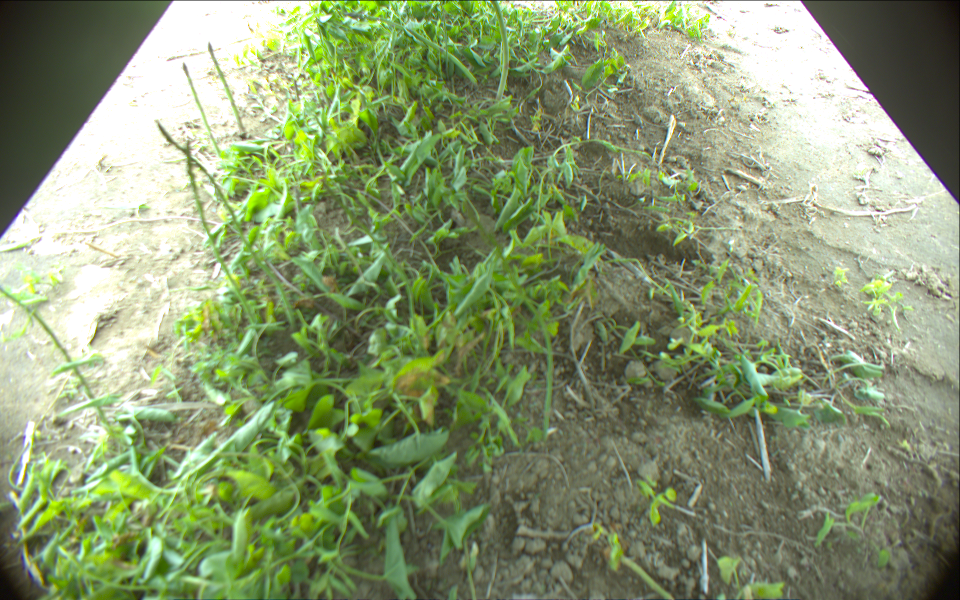aspa: (1, 285, 123, 448), (485, 218, 555, 440), (181, 139, 262, 328), (155, 118, 252, 250), (346, 8, 479, 84), (179, 59, 223, 151), (205, 43, 249, 132), (489, 1, 510, 105)
